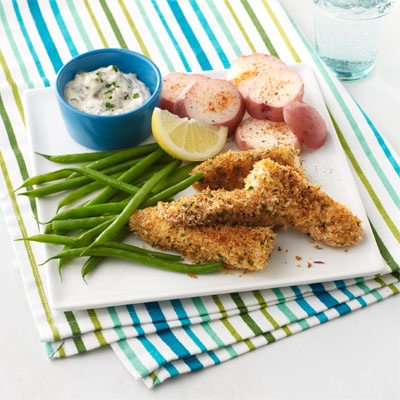background: (8, 34, 227, 180), (39, 32, 94, 72)
